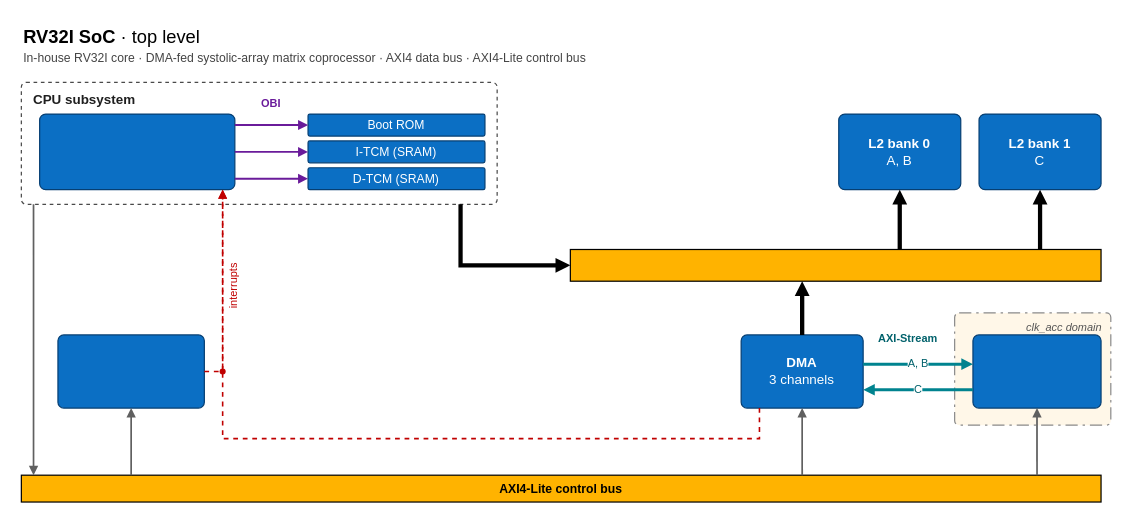
Some shapes in this 1132 by 523 pixel diagram are drawn without their labels. The centre of each missing label's shape, as x and y in pixels:
"AXI4 crossbar 2×2 · 128-bit" goes at pixel 835 264.
"RV32I core 5-stage pipeline RV32I + Zicsr" goes at pixel 136 151.
"Systolic array 8×8 MAC coprocessor" goes at pixel 1036 371.
"Timer" goes at pixel 130 371.
